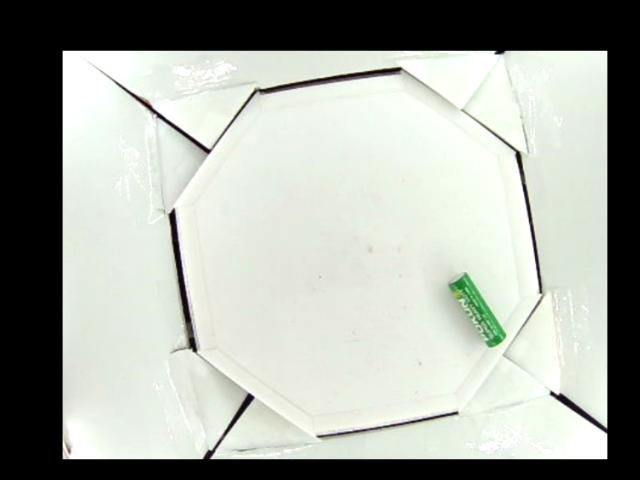Battery: (444, 273, 506, 348)
